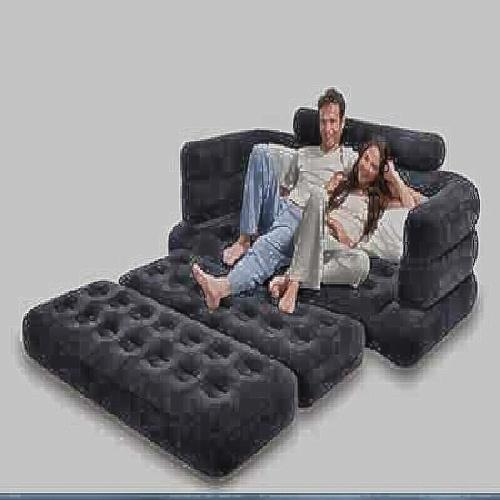sofa: (39, 123, 485, 455)
